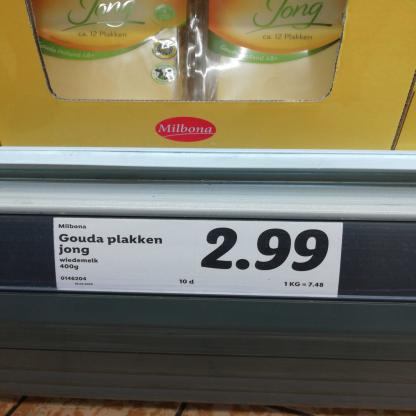prtg: (54, 219, 344, 300)
